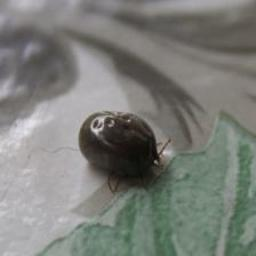Rhipicephalus sanguineus: (77, 109, 172, 192)
